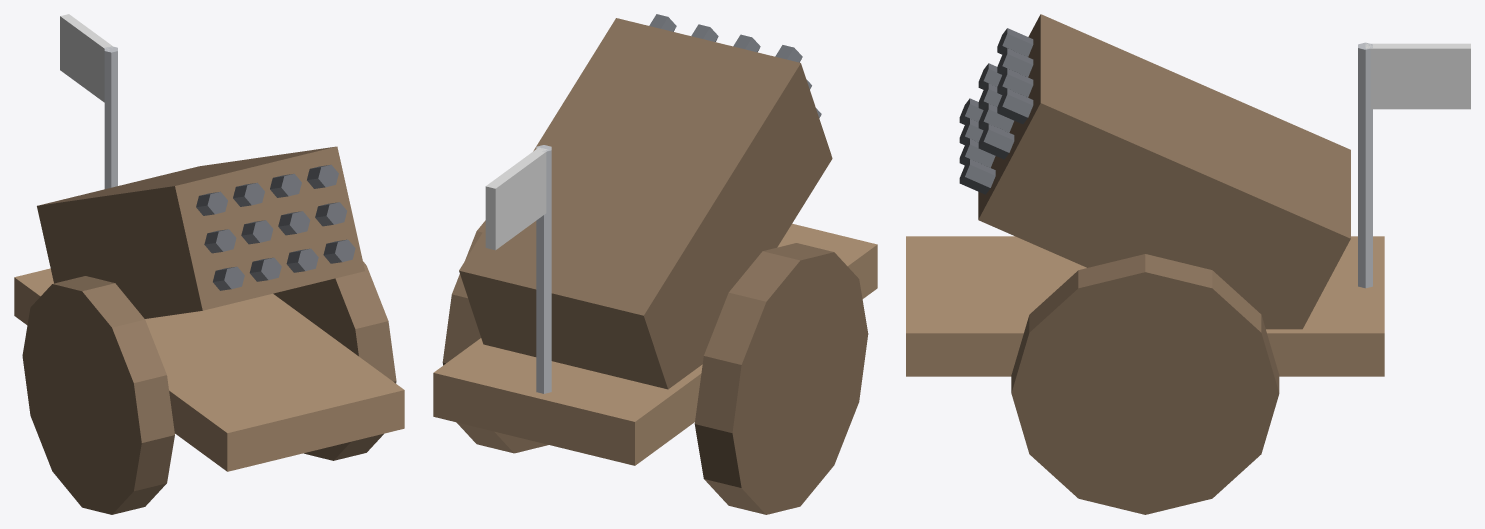
File: Hwach'a.glb
The picture shows the model from 3 angles, left to right: view 1: azimuth 30°, elevation 25°; view 2: azimuth 150°, elevation 25°; view 3: azimuth 270°, elevation 25°; orthographic projection. The views are drawn at different scales.
Visible parts, largest first — view 1: Body; view 2: Body; view 3: Body.
Boxes of the visible parts, x1,y1,x2,y2 form: Body: [14, 14, 404, 514]; Body: [433, 14, 877, 514]; Body: [906, 14, 1470, 514].
Size of the model in its own units: 0.345 by 0.46 by 0.59.
